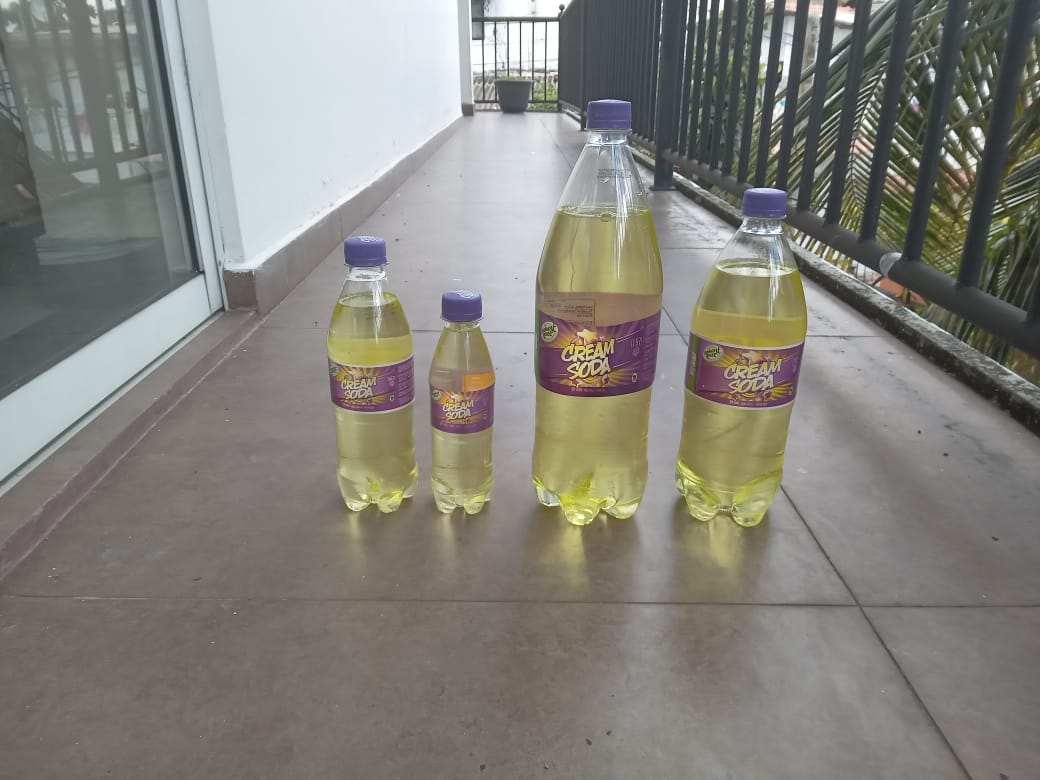L: (534, 100, 664, 529), (645, 322, 666, 324)
M: (677, 187, 807, 529)
S: (324, 237, 420, 515)
Xs: (431, 294, 495, 511)
